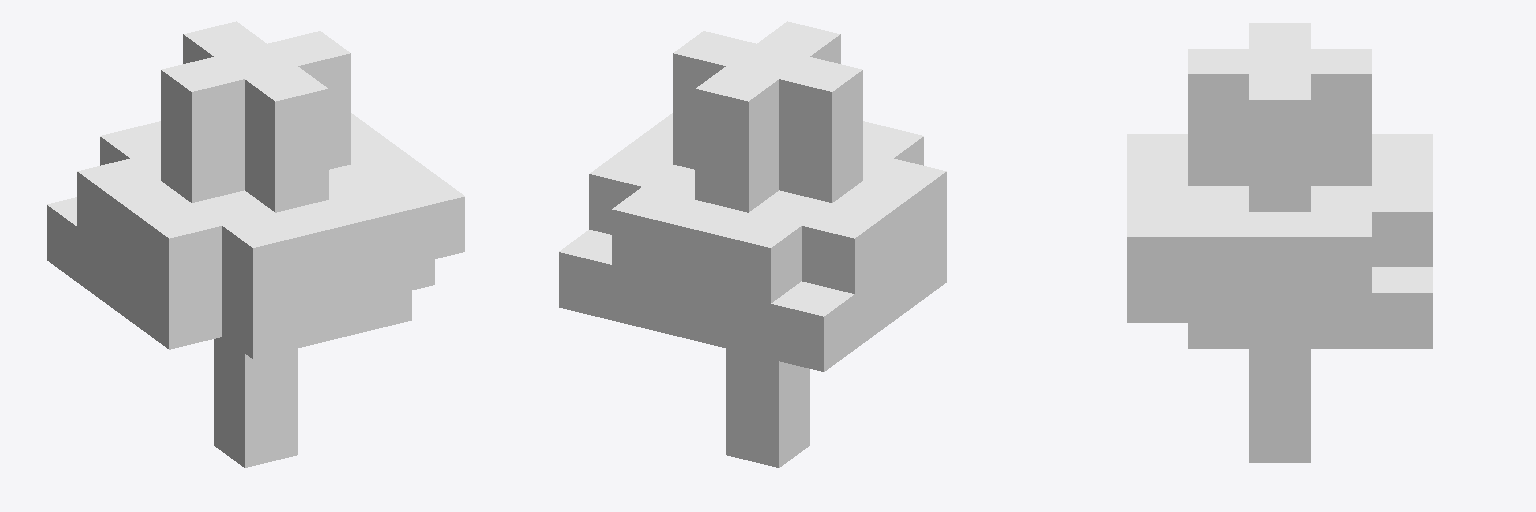
The model's file is Birch_0.obj.
3 renders of one model, left to right at view 1: azimuth 30°, elevation 25°; view 2: azimuth 150°, elevation 25°; view 3: azimuth 270°, elevation 25°, orthographic.
Parts seen in each view (by area): view 1: _(2)__4_-60_-2_to_9_319_2; view 2: _(2)__4_-60_-2_to_9_319_2; view 3: _(2)__4_-60_-2_to_9_319_2.
Part boxes in pixels (x1,y1,x2,y2): _(2)__4_-60_-2_to_9_319_2: (47,21,464,467); _(2)__4_-60_-2_to_9_319_2: (559,21,946,467); _(2)__4_-60_-2_to_9_319_2: (1127,23,1432,462).
Bounding box in the file's own units: 5 × 7 × 5.